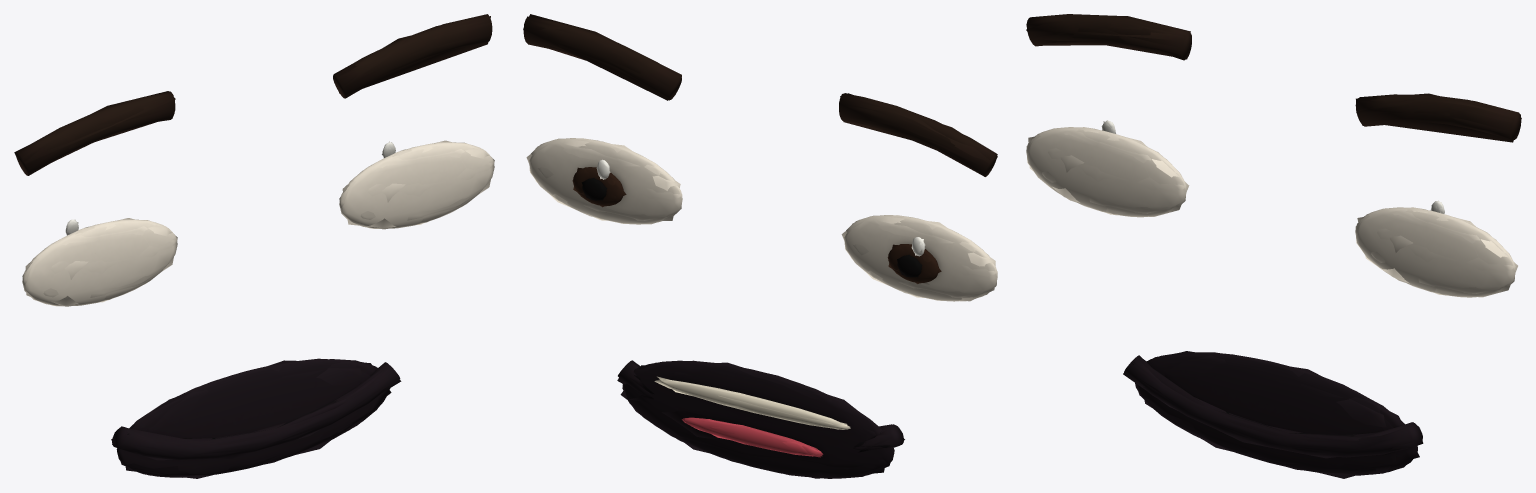
The model's file is laughing.glb.
The picture shows the model from 3 angles, left to right: view 1: azimuth 30°, elevation 25°; view 2: azimuth 150°, elevation 25°; view 3: azimuth 330°, elevation 25°; orthographic projection. The views are drawn at different scales.
Visible parts, largest first — view 1: near, mid, far; view 2: near, mid, far; view 3: near, mid, far.
Part boxes in pixels (x1=…): near: x1=16, y1=15, x2=494, y2=477; mid: x1=16, y1=14, x2=494, y2=477; far: x1=14, y1=16, x2=494, y2=478; near: x1=523, y1=16, x2=997, y2=478; mid: x1=524, y1=16, x2=997, y2=478; far: x1=523, y1=14, x2=997, y2=478; near: x1=1026, y1=14, x2=1521, y2=475; mid: x1=1026, y1=14, x2=1520, y2=475; far: x1=1026, y1=14, x2=1521, y2=478.
Bounding box in the file's own units: 0.6731 × 0.5392 × 0.0547.
Materials: 8 (8 with a texture image).
